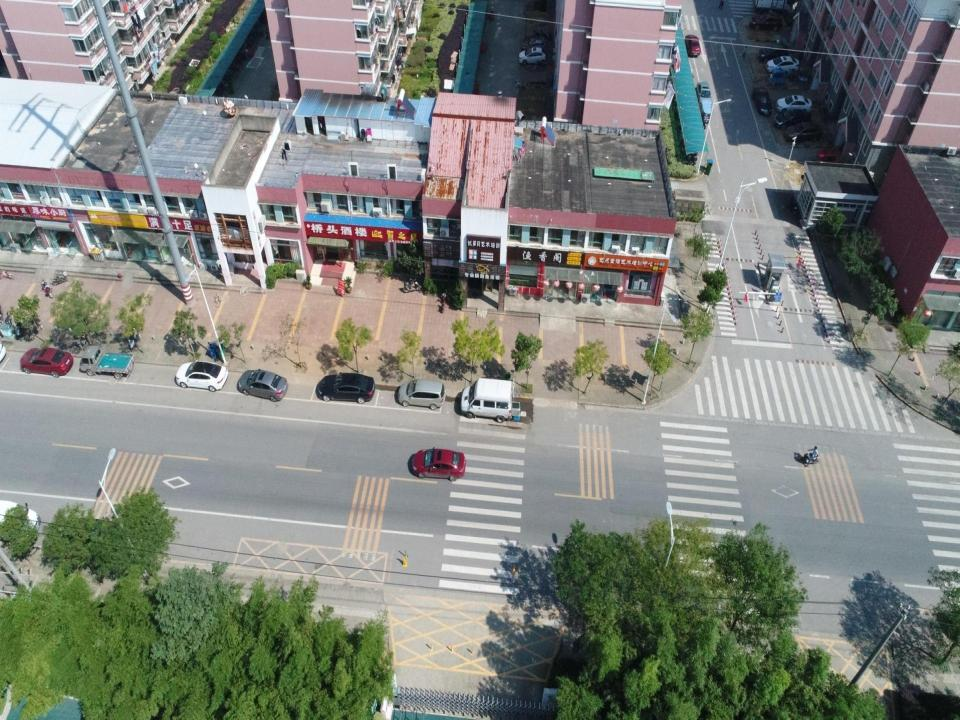car: (61, 517, 128, 569), (411, 446, 466, 482), (0, 498, 41, 546), (318, 372, 376, 405), (175, 358, 229, 393), (238, 368, 288, 403), (20, 346, 74, 378), (785, 120, 823, 144), (774, 108, 812, 132), (774, 93, 813, 115), (753, 8, 783, 33), (765, 55, 800, 76), (752, 84, 773, 118), (518, 45, 548, 66), (520, 35, 548, 52), (696, 79, 712, 105), (684, 34, 701, 57)
truck: (78, 345, 134, 380)
van: (459, 376, 513, 424), (397, 378, 446, 411), (757, 46, 790, 64)
